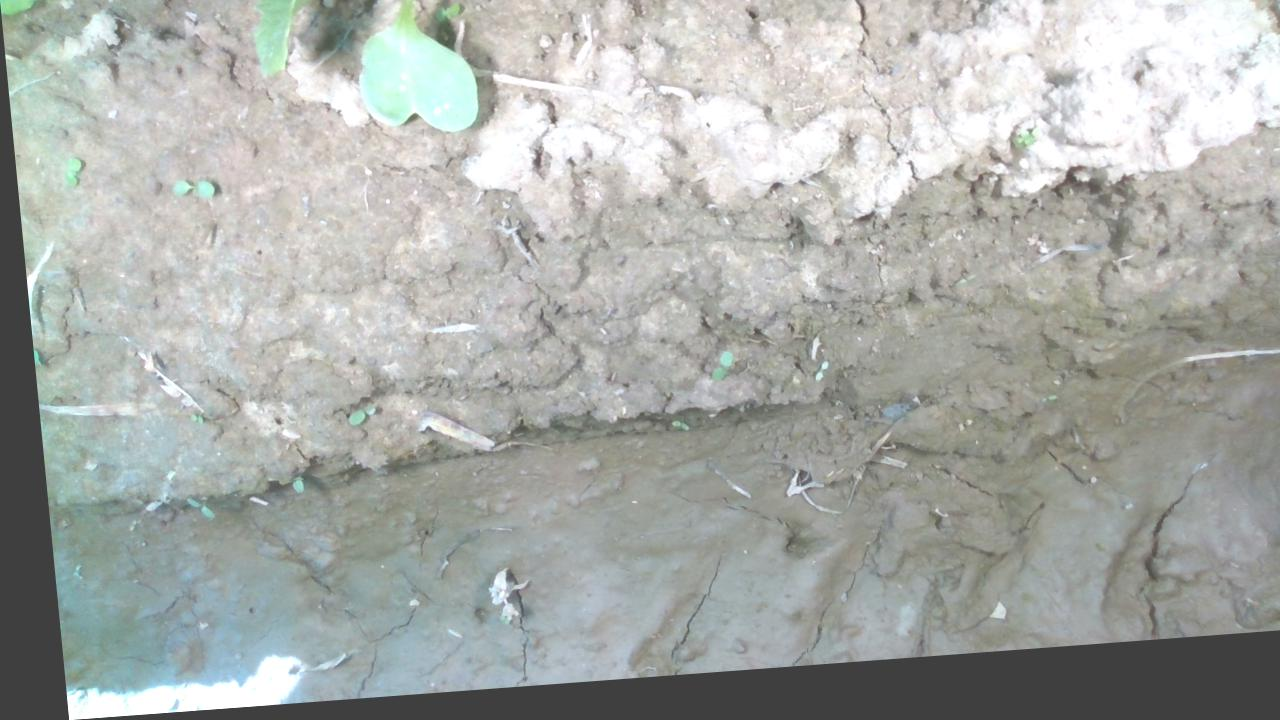weed: (165, 179, 212, 204), (698, 360, 727, 395), (334, 404, 369, 432), (173, 496, 205, 523), (427, 6, 461, 29), (57, 156, 80, 189), (659, 427, 679, 442), (179, 414, 194, 427)
